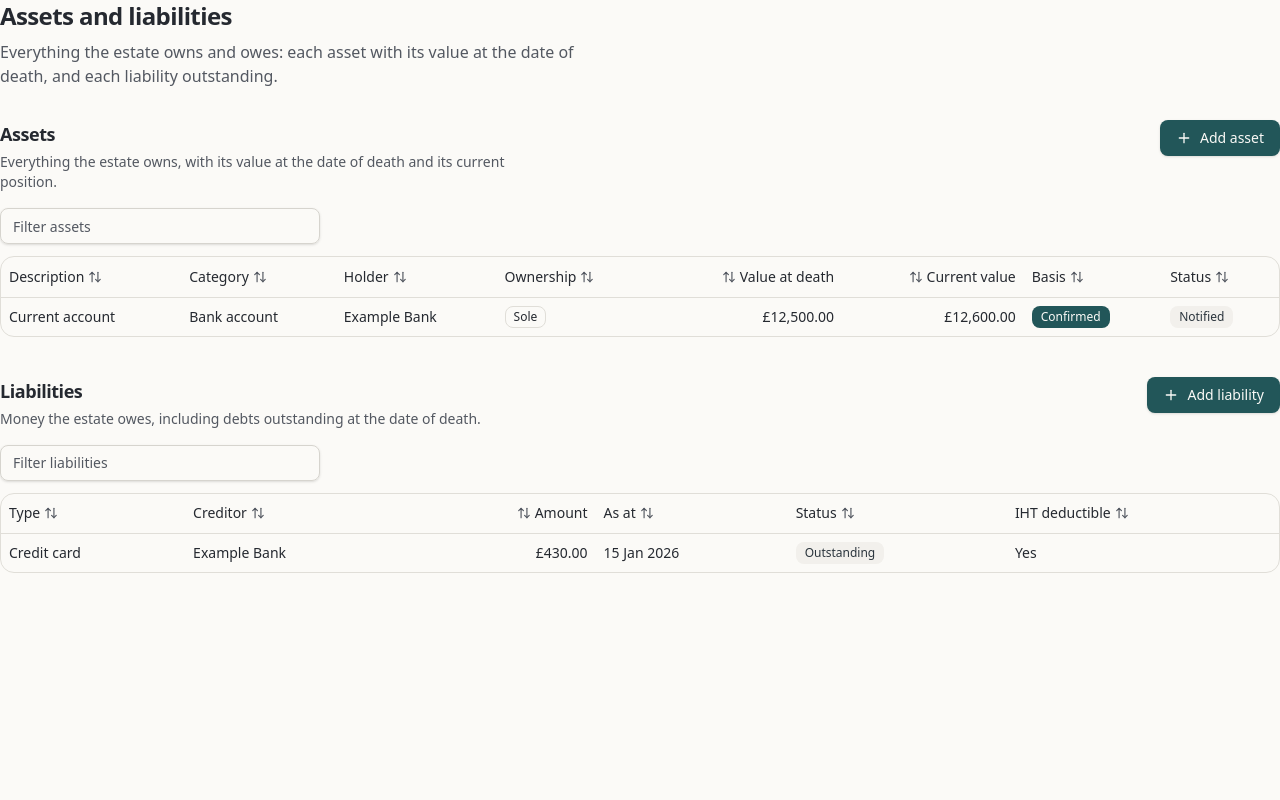
Scenario: AssetsPage › shows every field and the valuation history in the detail dialog
The image size is (1280, 800).
What coordinates should you click on to do the following:
click the text "Current account"
I would click on:
 (91, 316)
Its box is [1,297,181,336].
(page scrolled)
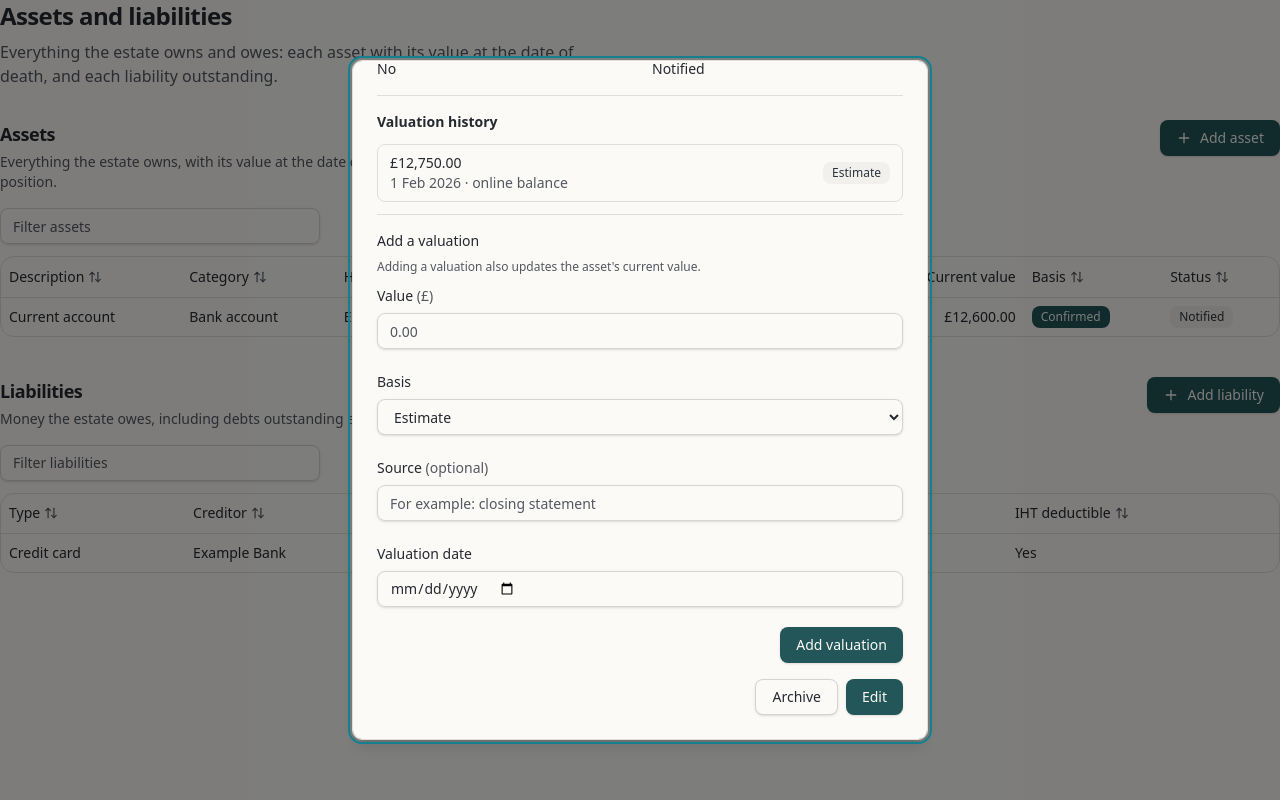
expect the heading "Valuation history" is shown: met, box [377,112,498,131]
expect the text "£12,750.00" is shown: met, box [390,153,462,172]
expect the text "1 Feb 2026 · online balance" is shown: met, box [390,173,568,193]
